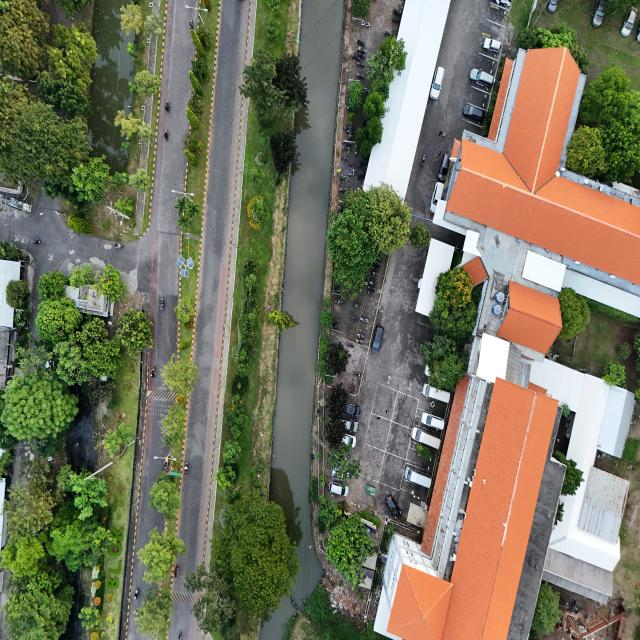Tree: (140, 531, 181, 579), (554, 289, 591, 341), (530, 580, 562, 634), (149, 472, 182, 518), (164, 354, 196, 398), (161, 404, 186, 450), (103, 425, 130, 458), (604, 358, 628, 395), (120, 4, 144, 34), (134, 70, 160, 96), (267, 309, 296, 331), (175, 295, 195, 324), (128, 169, 151, 193), (77, 607, 101, 629), (410, 223, 430, 249), (216, 465, 236, 489), (223, 439, 242, 464), (366, 118, 383, 144), (190, 29, 205, 56), (146, 15, 163, 38), (349, 82, 362, 110), (139, 124, 157, 144), (616, 339, 632, 361), (189, 71, 203, 95), (186, 200, 201, 220), (187, 108, 200, 130), (177, 213, 191, 231), (184, 149, 198, 166), (175, 196, 188, 214)
